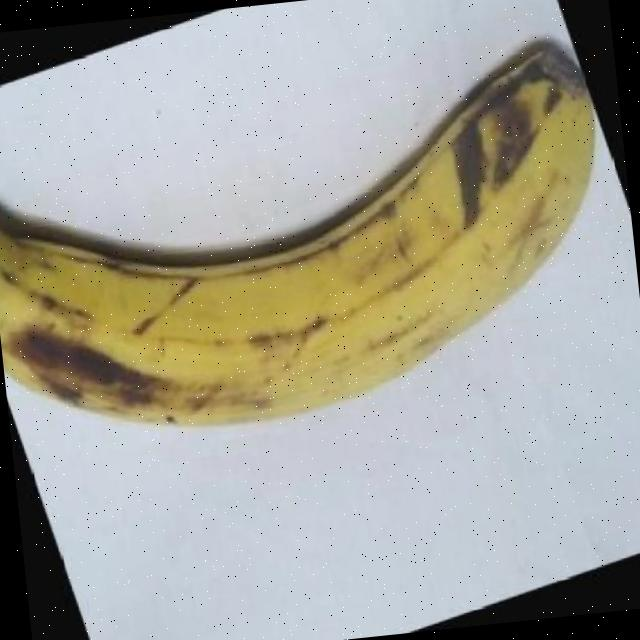Overripe: (0, 8, 640, 495)
